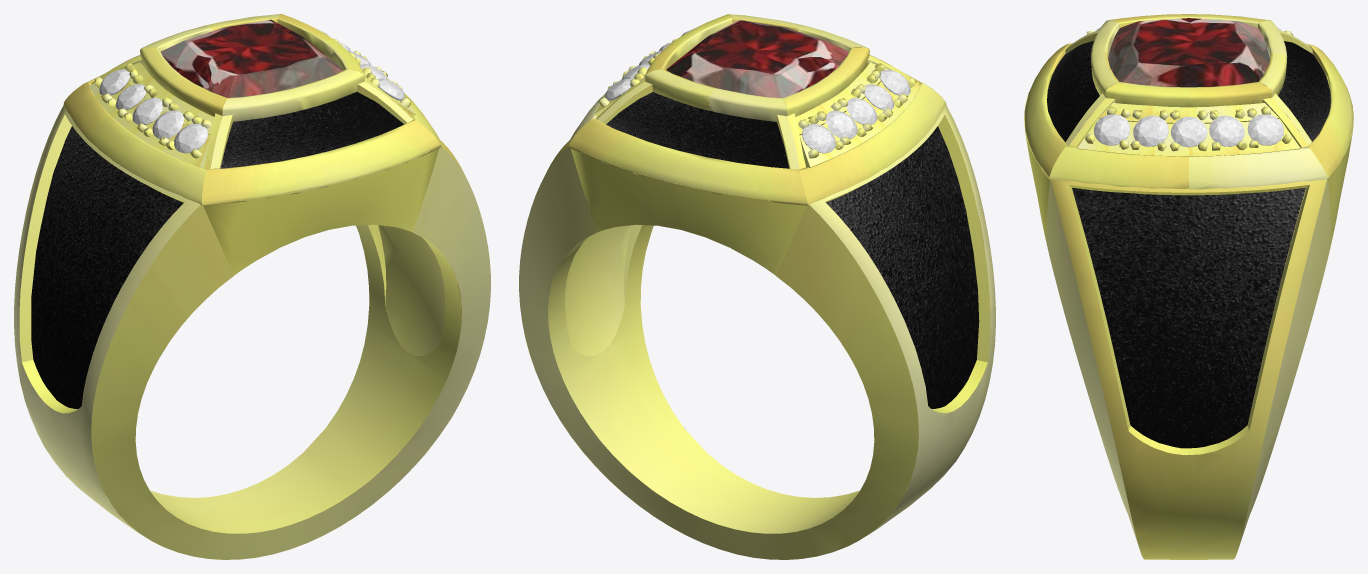
File: ring2.glb
3 renders of one model, left to right at view 1: azimuth 30°, elevation 25°; view 2: azimuth 150°, elevation 25°; view 3: azimuth 270°, elevation 25°, orthographic.
Visible parts, largest first — view 1: body, black, core, diamonds, Object_72.001, Object_52.001; view 2: body, black, core, diamonds, Object_72.001, Object_52.001; view 3: body, black, core, diamonds, Object_72.001, Object_52.001.
Part boxes in pixels (left/top/right/bottom): body: left=14, top=14, right=490, bottom=559; black: left=31, top=92, right=403, bottom=408; core: left=160, top=19, right=343, bottom=103; diamonds: left=99, top=28, right=404, bottom=153; Object_72.001: left=89, top=62, right=415, bottom=167; Object_52.001: left=95, top=38, right=410, bottom=158; body: left=519, top=14, right=995, bottom=559; black: left=606, top=92, right=979, bottom=408; core: left=666, top=19, right=869, bottom=103; diamonds: left=604, top=27, right=910, bottom=153; Object_72.001: left=594, top=61, right=920, bottom=167; Object_52.001: left=598, top=38, right=916, bottom=158; body: left=1024, top=14, right=1353, bottom=559; black: left=1047, top=41, right=1330, bottom=448; core: left=1108, top=18, right=1272, bottom=90; diamonds: left=1094, top=27, right=1283, bottom=147; Object_72.001: left=1077, top=103, right=1300, bottom=156; Object_52.001: left=1085, top=30, right=1293, bottom=151.
Bounding box in the file's own units: 26.19 × 30.46 × 18.36.
4 materials, 4 textured.
